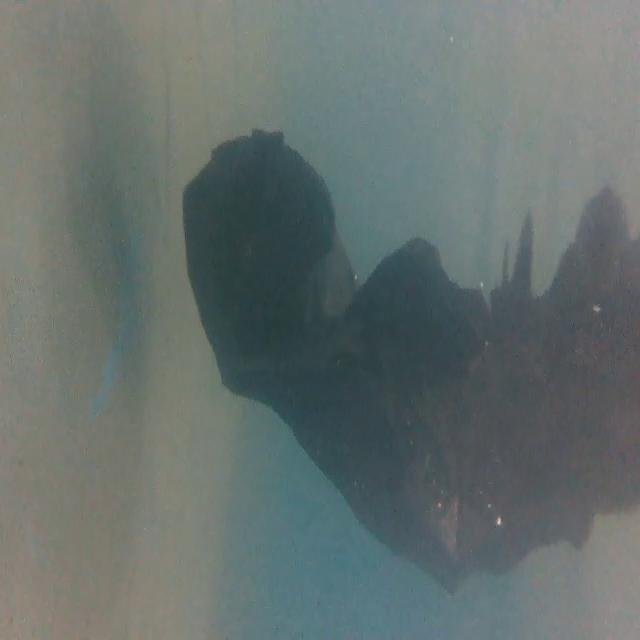plastic bags: (179, 120, 640, 597)
